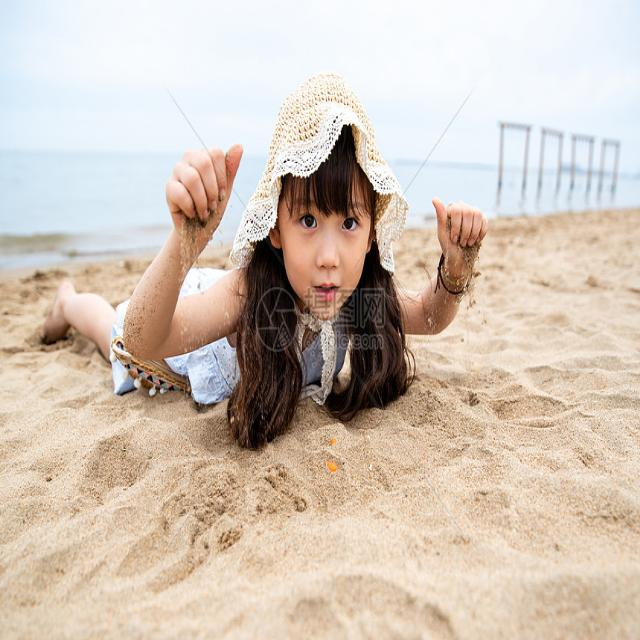lie: (14, 134, 421, 426)
